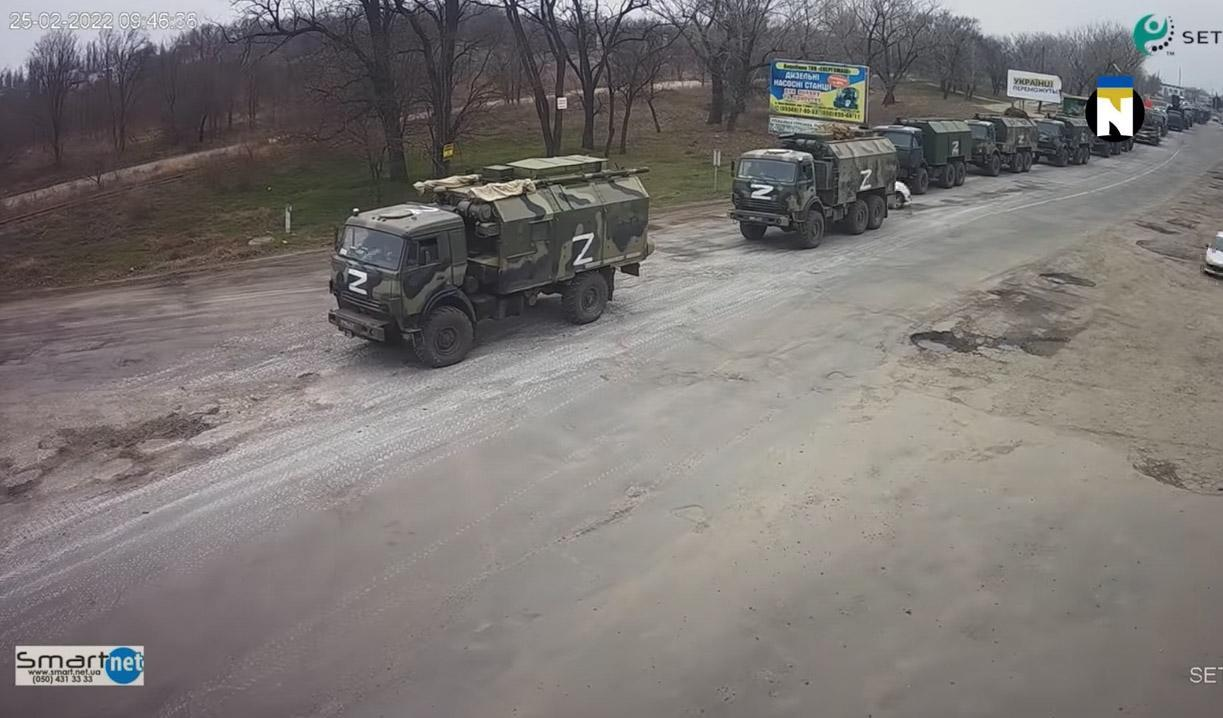truck: (318, 150, 656, 378), (732, 123, 896, 254), (880, 113, 970, 197), (965, 110, 1038, 180), (1033, 111, 1092, 170)
